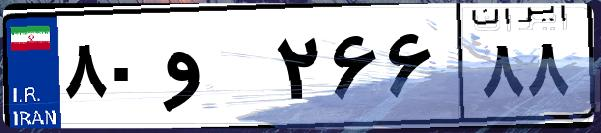0: (110, 28, 158, 98)
2: (270, 28, 330, 110)
6: (385, 28, 445, 110), (330, 28, 385, 110)
8: (57, 26, 110, 100), (475, 38, 525, 113), (525, 38, 570, 115)
و: (158, 20, 270, 120)
